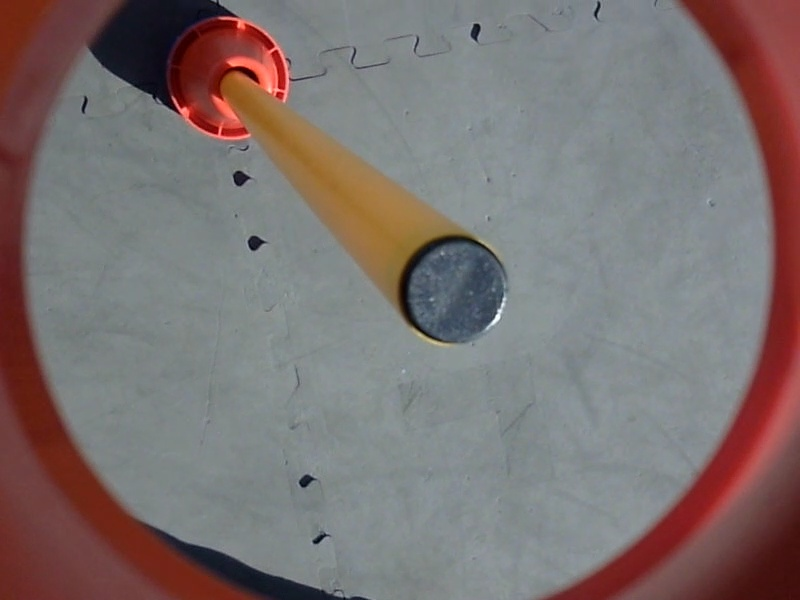tip: (398, 224, 515, 351)
